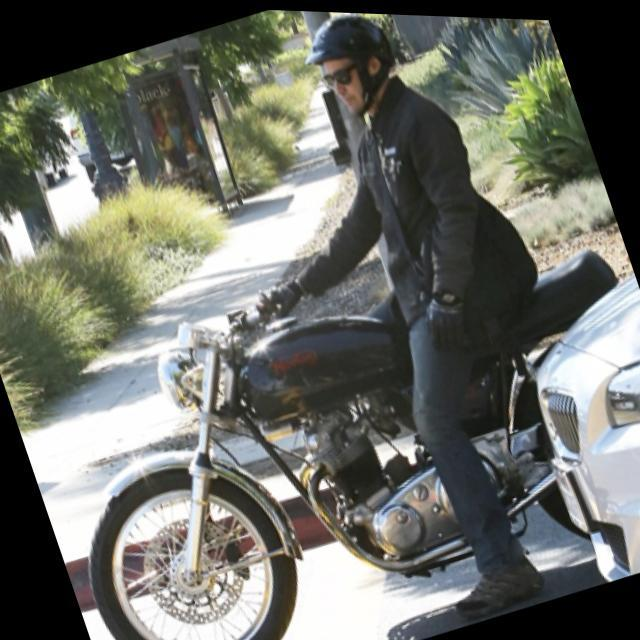Helmet: (300, 8, 408, 124)
